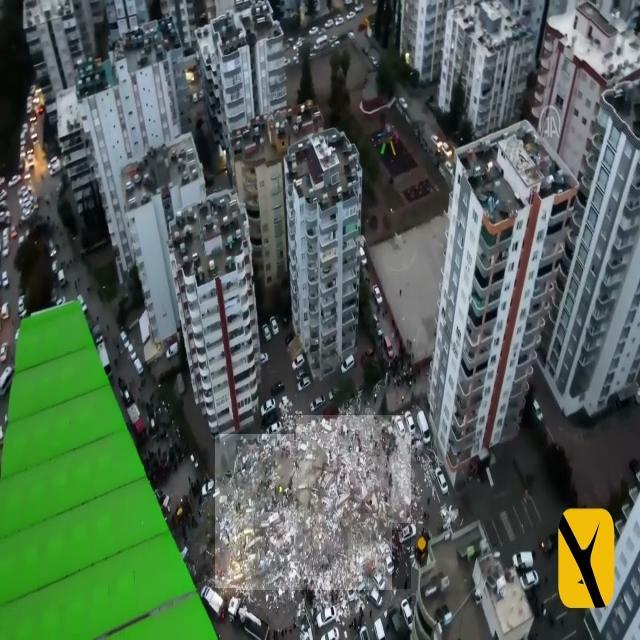Rubble: (236, 440, 392, 590), (296, 415, 411, 523), (215, 434, 294, 588), (297, 530, 411, 589)
